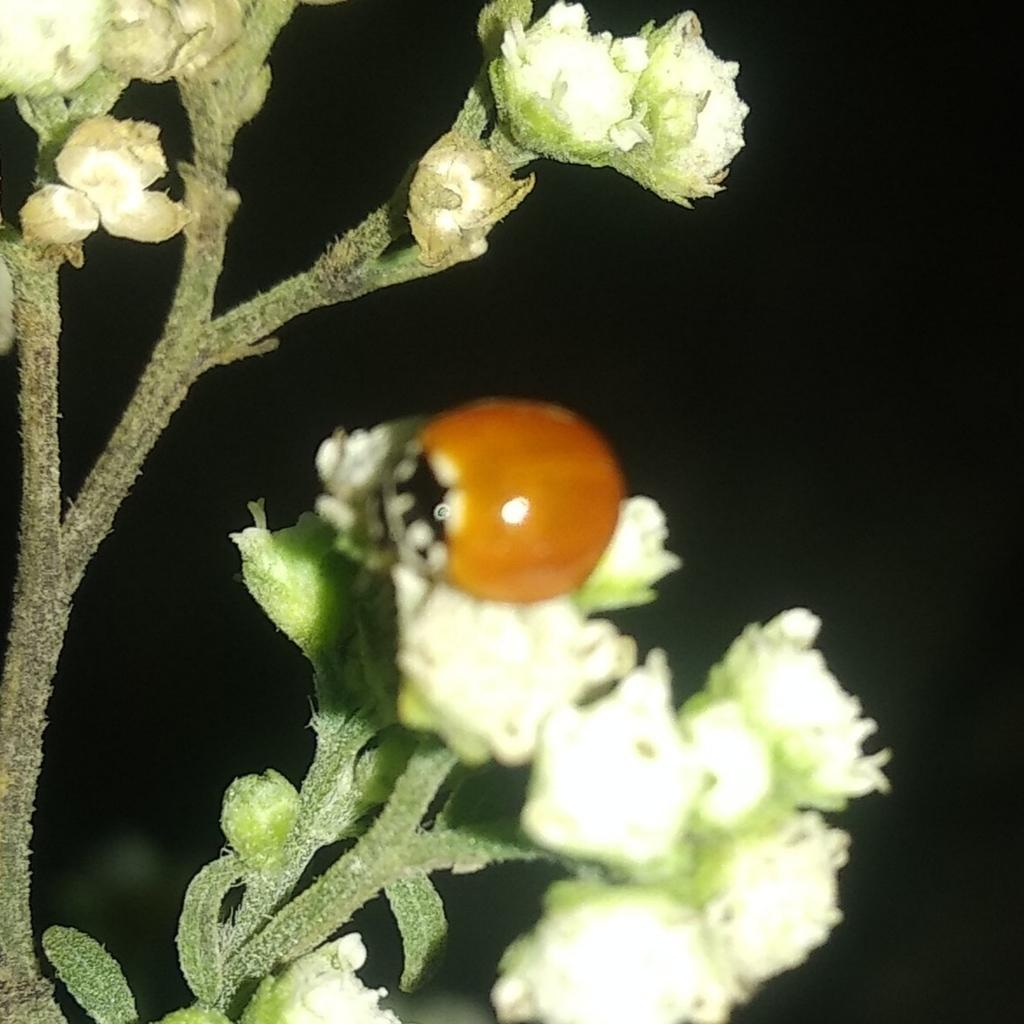ladybug: (371, 396, 629, 621)
